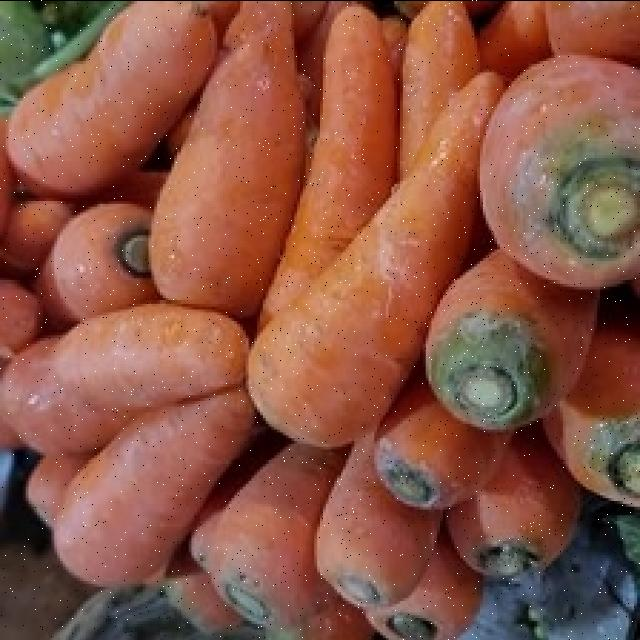carrot: (0, 6, 500, 640), (246, 77, 497, 449), (480, 58, 640, 288), (425, 251, 597, 429), (374, 374, 511, 509)
